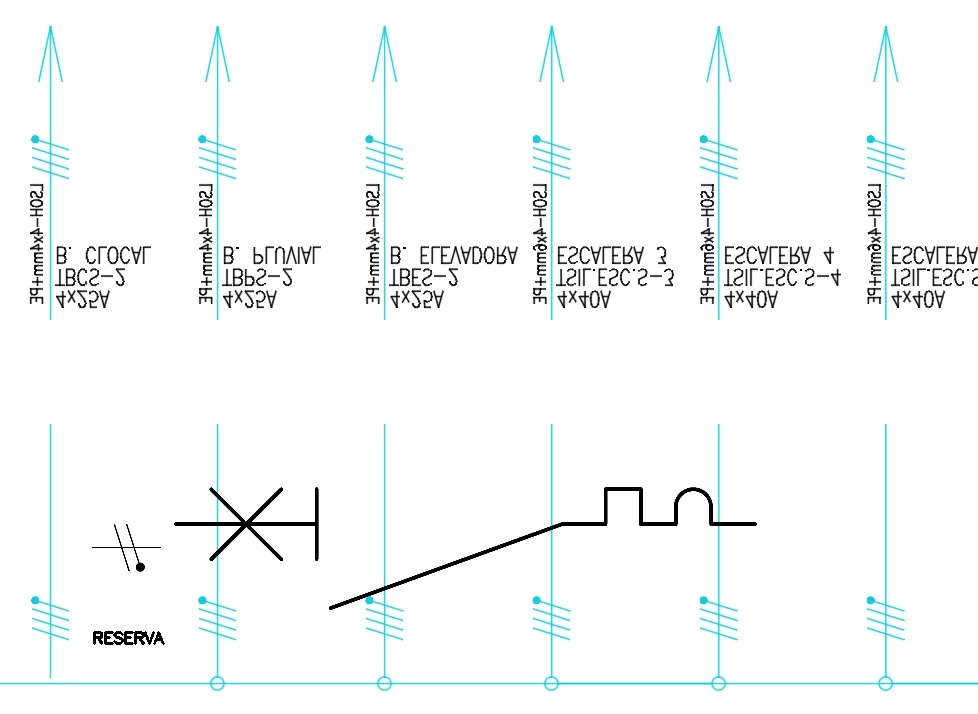interruptor_termomagnetico: (160, 474, 770, 623)
